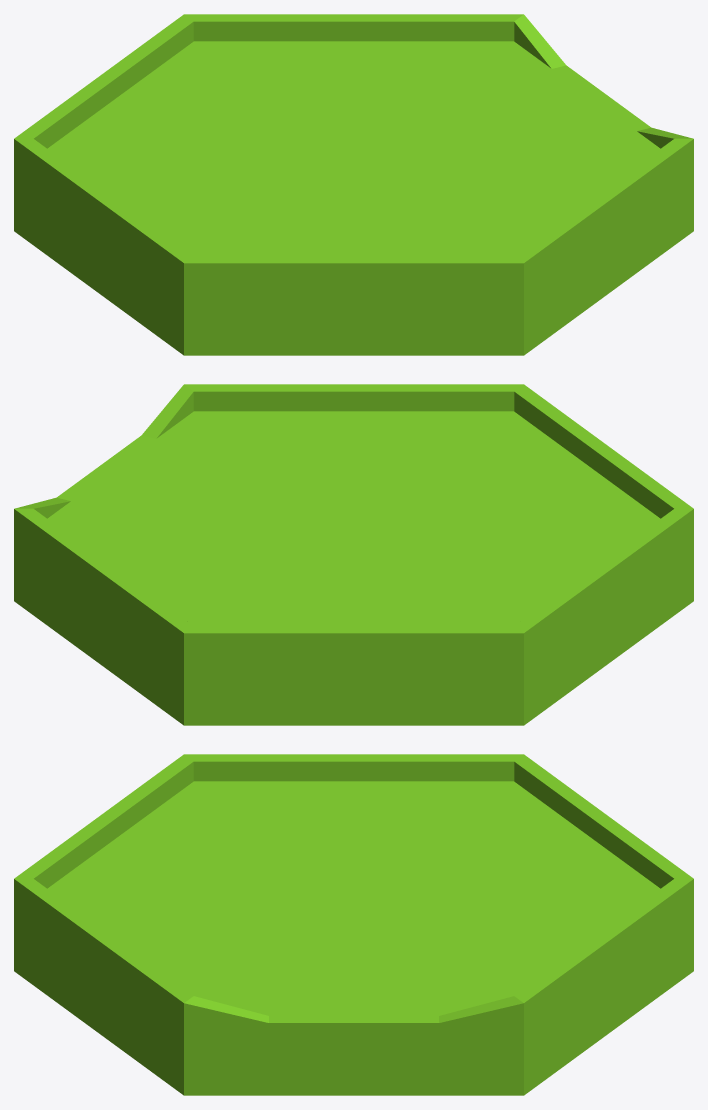
The model's file is Hex Tile Grass 01.glb.
3 renders of one model, top to bottom at view 1: azimuth 30°, elevation 25°; view 2: azimuth 150°, elevation 25°; view 3: azimuth 270°, elevation 25°, orthographic.
Visible parts, largest first — view 1: body.001, border.001; view 2: body.001, border.001; view 3: body.001, border.001.
Part boxes in pixels (left/top/right/bottom): body.001: left=47, top=41, right=660, bottom=255; border.001: left=14, top=14, right=693, bottom=355; body.001: left=47, top=411, right=660, bottom=625; border.001: left=14, top=384, right=693, bottom=725; body.001: left=47, top=781, right=660, bottom=1016; border.001: left=14, top=754, right=693, bottom=1095.
Size of the model in its own units: 1.73 by 0.3 by 2.
